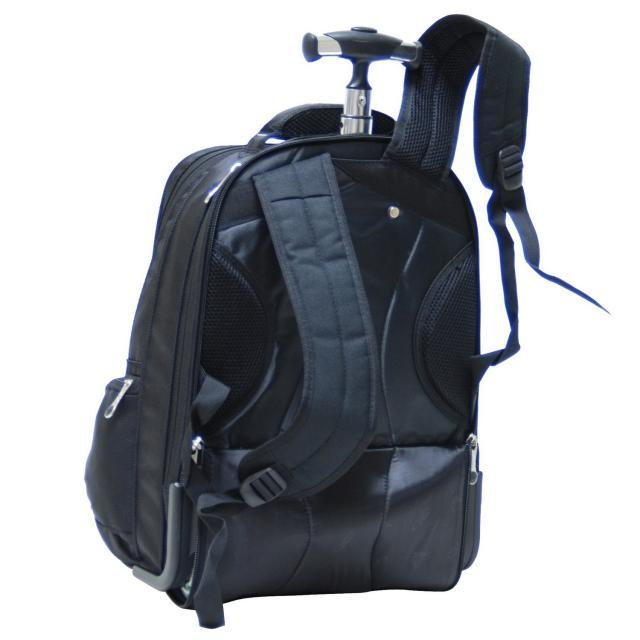Backpacks: (86, 99, 492, 620)
